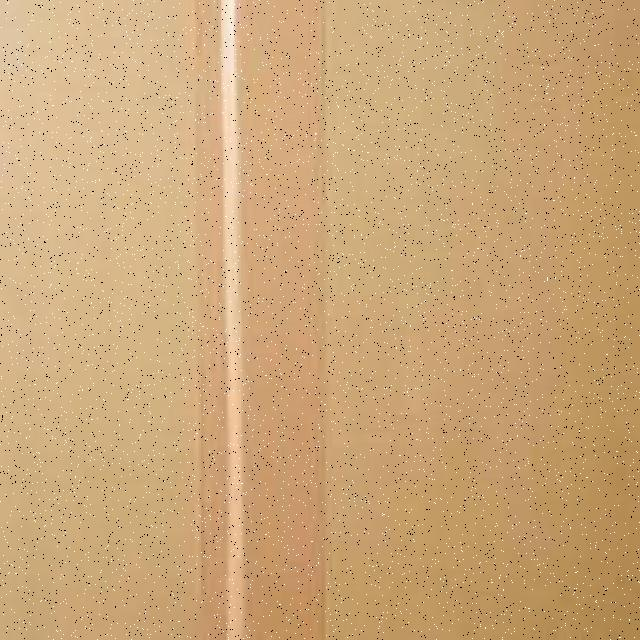normal: (7, 1, 536, 638)
